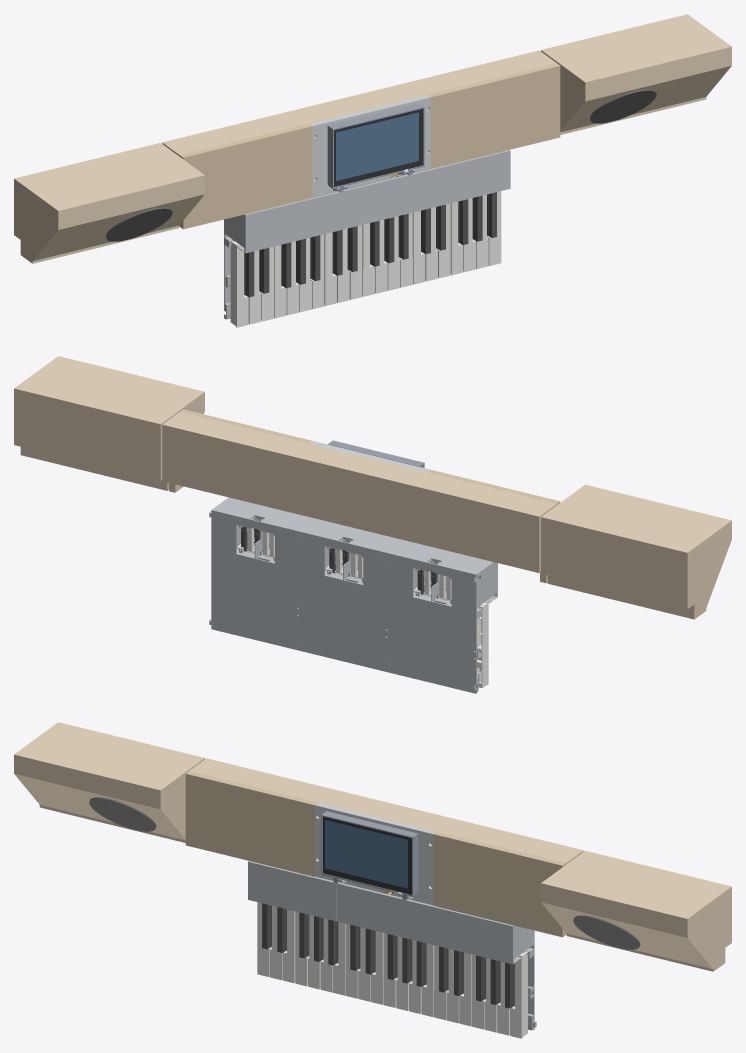
File: touch_B1_fold.glb
The picture shows the model from 3 angles, top to bottom: view 1: azimuth 30°, elevation 25°; view 2: azimuth 150°, elevation 25°; view 3: azimuth 330°, elevation 25°; orthographic projection.
Visible parts, largest first — view 1: ctx__L2-POD-L, ctx__L2-POD-R, ctx__L2-LID-R, ctx__L2-LID-L, ctx__L2-CU-BOX, ctx__O3_백건, ctx__O3_프레임, ctx__O4_백건, ctx__O5_백건, fold__TS-SCREEN-ACTIVE, ctx__O4_프레임, ctx__O5_프레임 (+8 smaller); view 2: ctx__L2-CU-BOX, ctx__L2-POD-L, ctx__L2-POD-R, ctx__O3_프레임, ctx__O4_프레임, ctx__O5_프레임, ctx__O3_백건, fold__TS-CRADLE; view 3: ctx__L2-POD-R, ctx__L2-POD-L, ctx__L2-LID-L, ctx__L2-LID-R, ctx__L2-CU-BOX, ctx__O5_백건, ctx__O5_프레임, ctx__O4_백건, ctx__O3_백건, fold__TS-SCREEN-ACTIVE, ctx__O4_프레임, ctx__O3_프레임 (+8 smaller).
Boxes of the visible parts, x1,y1,x2,y2 form: ctx__L2-POD-L: (14, 143, 204, 263); ctx__L2-POD-R: (541, 14, 731, 134); ctx__L2-LID-R: (427, 63, 560, 168); ctx__L2-LID-L: (179, 123, 312, 229); ctx__L2-CU-BOX: (162, 50, 556, 226); ctx__O3_백건: (230, 234, 324, 327); ctx__O3_프레임: (224, 193, 333, 319); ctx__O4_백건: (324, 212, 412, 305); ctx__O5_백건: (412, 191, 501, 284); fold__TS-SCREEN-ACTIVE: (336, 112, 418, 180); ctx__O4_프레임: (333, 171, 422, 231); ctx__O5_프레임: (421, 150, 510, 210); ctx__L2-CU-BOX: (162, 412, 556, 583); ctx__L2-POD-L: (541, 484, 731, 619); ctx__L2-POD-R: (14, 356, 204, 490); ctx__O3_프레임: (386, 540, 497, 693); ctx__O4_프레임: (297, 519, 404, 672); ctx__O5_프레임: (209, 497, 316, 650); ctx__O3_백건: (413, 571, 488, 688); fold__TS-CRADLE: (327, 440, 424, 467); ctx__L2-POD-R: (541, 851, 731, 971); ctx__L2-POD-L: (14, 722, 204, 842); ctx__L2-LID-L: (185, 771, 317, 876); ctx__L2-LID-R: (433, 831, 566, 937); ctx__L2-CU-BOX: (189, 758, 583, 934); ctx__O5_백건: (434, 945, 527, 1038); ctx__O5_프레임: (424, 904, 536, 1030); ctx__O4_백건: (345, 924, 434, 1017); ctx__O3_백건: (257, 902, 345, 995); fold__TS-SCREEN-ACTIVE: (325, 820, 407, 888); ctx__O4_프레임: (336, 882, 425, 942); ctx__O3_프레임: (248, 861, 336, 921).
Bounding box in the file's own units: 1254 × 342 × 145.
